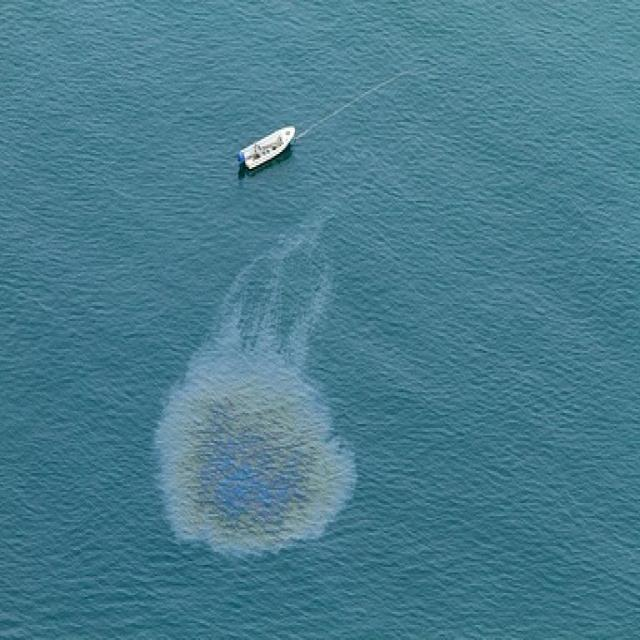sheen: (156, 225, 356, 554)
